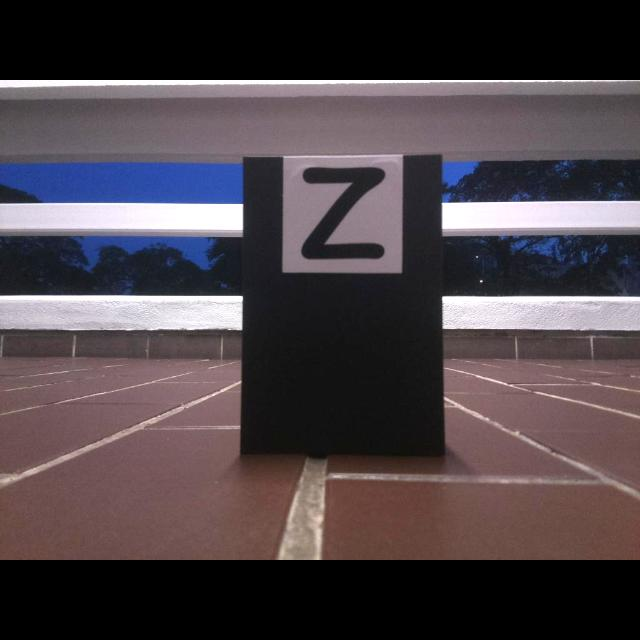Z: (301, 168, 386, 259)
